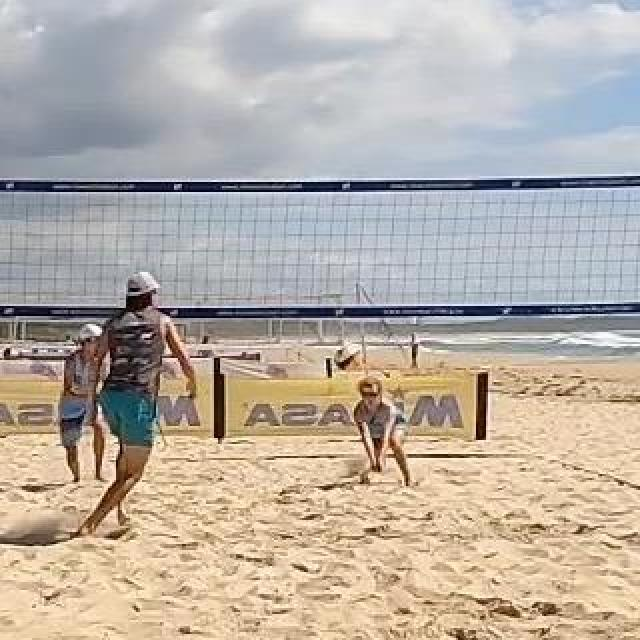volleyball: (335, 344, 365, 374)
